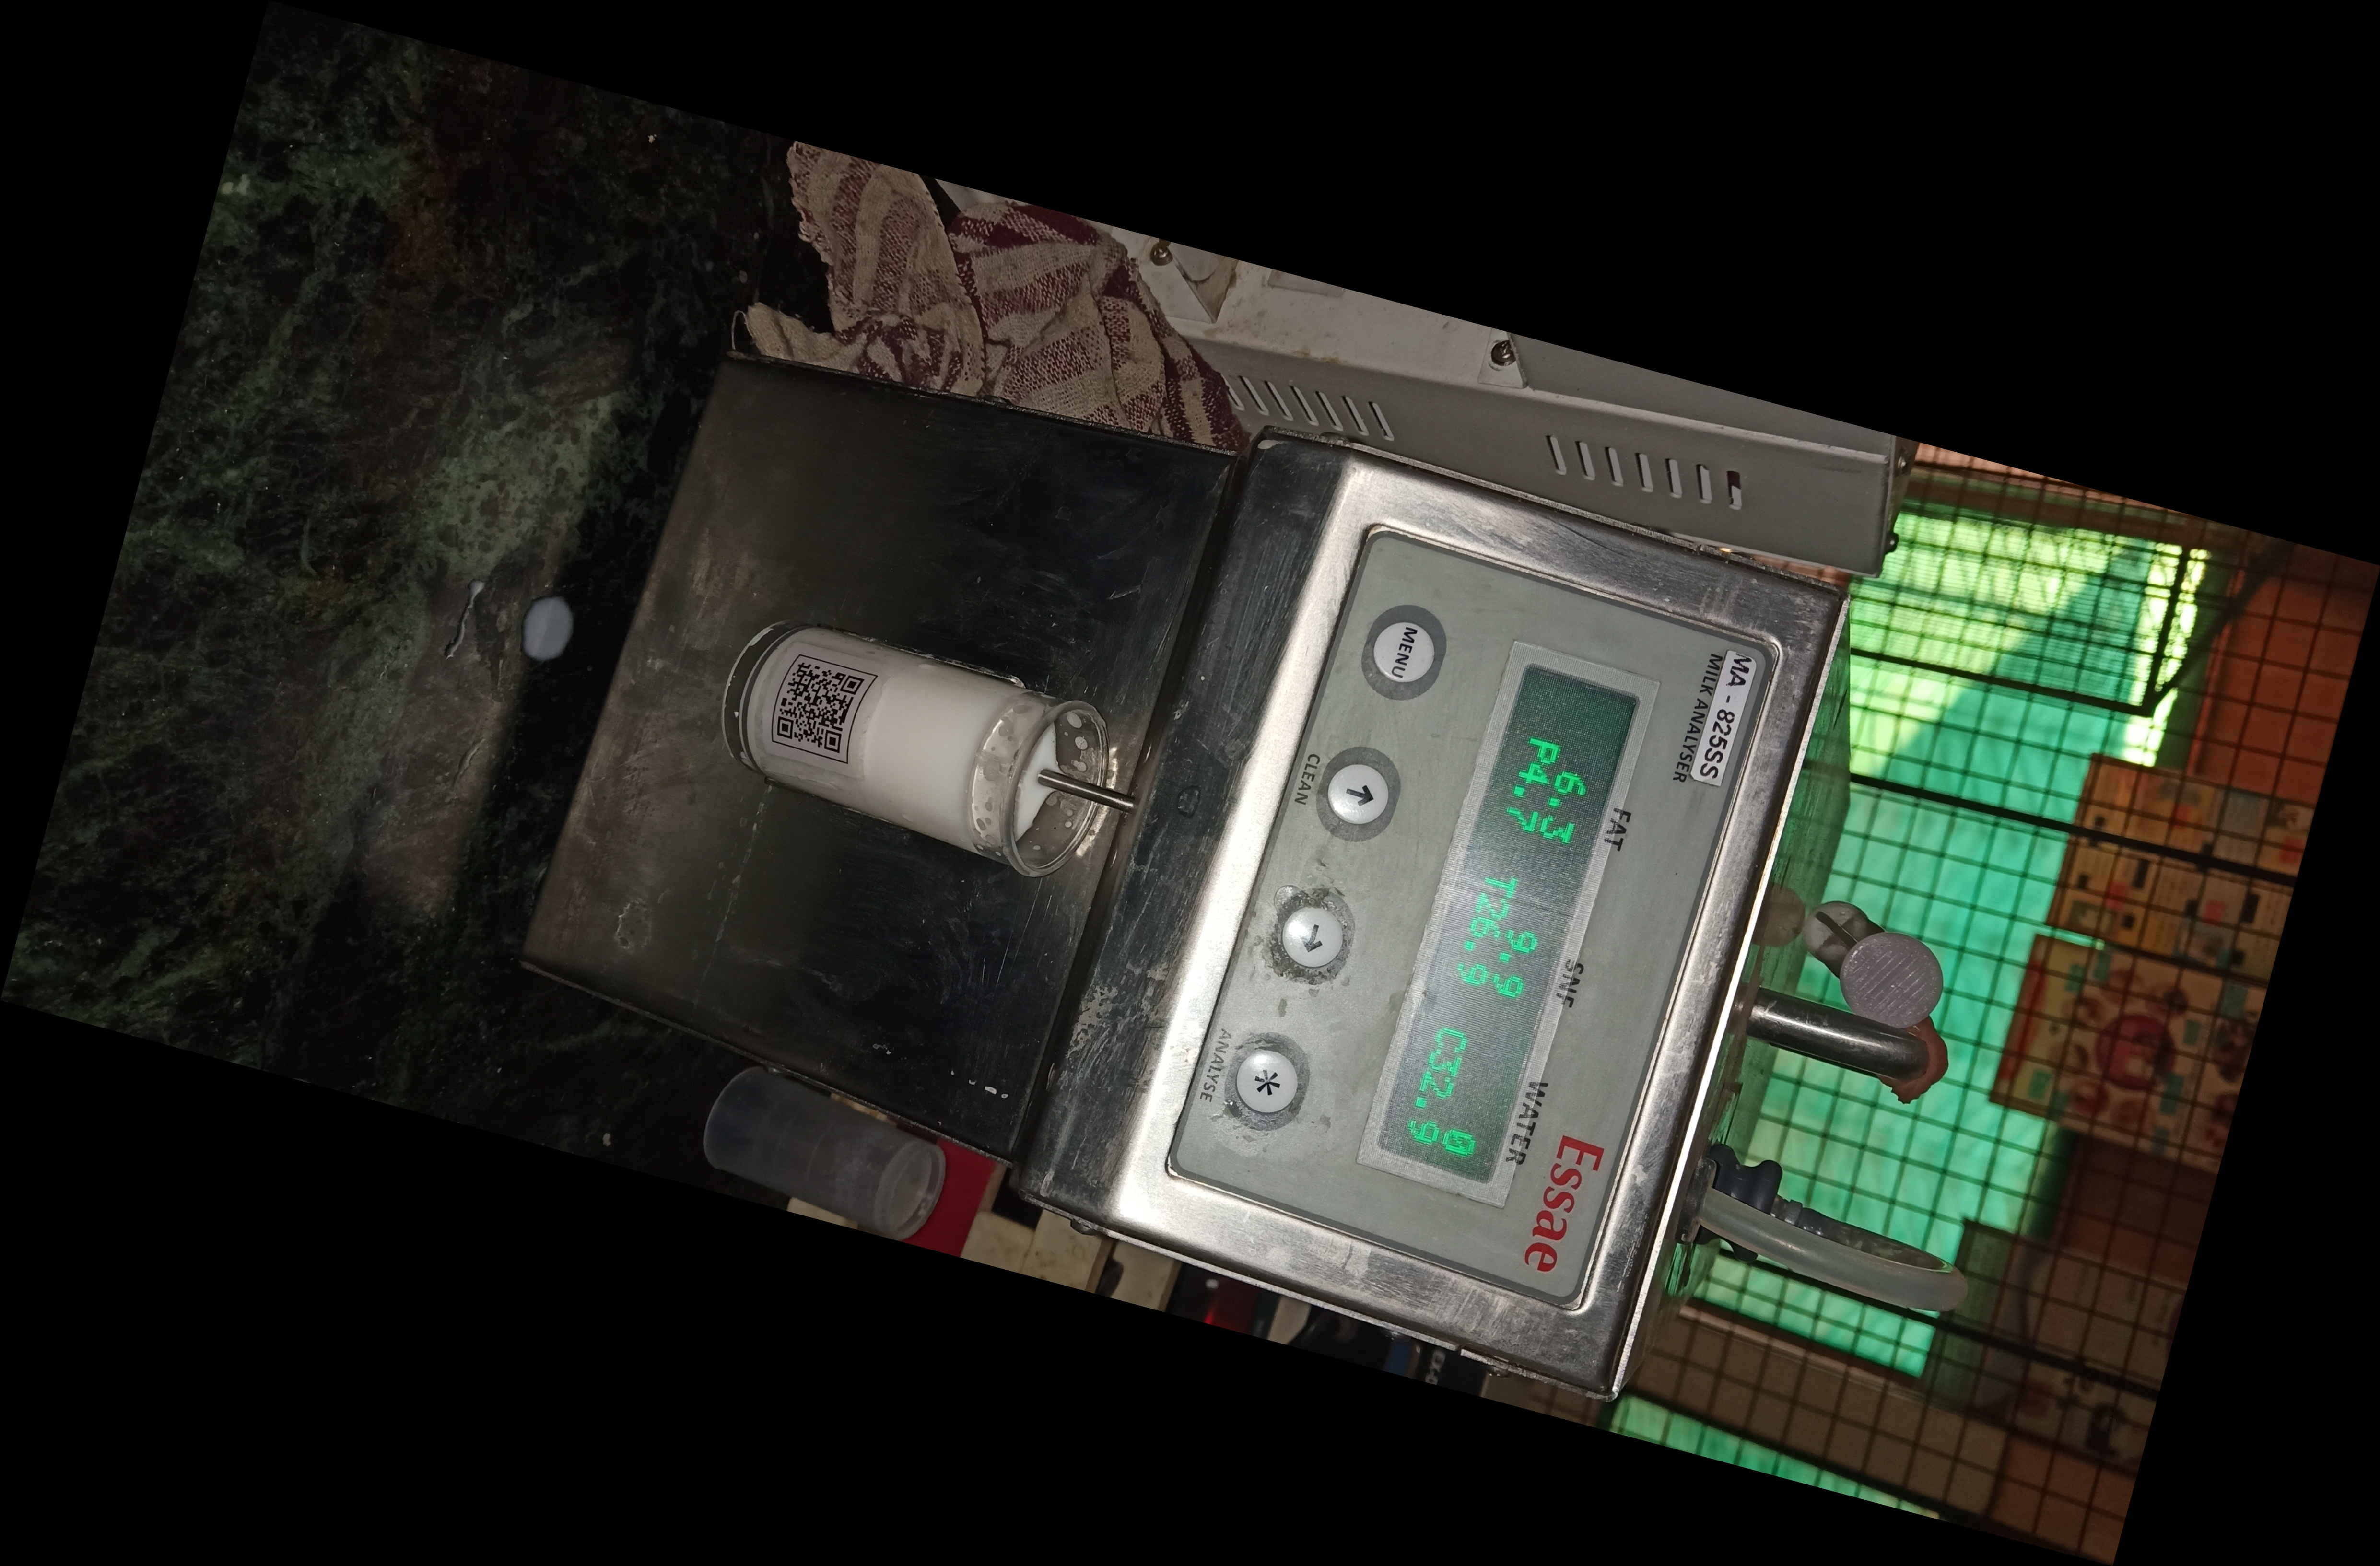lcd: (1347, 633, 1676, 1236)
qr: (750, 643, 889, 778)
